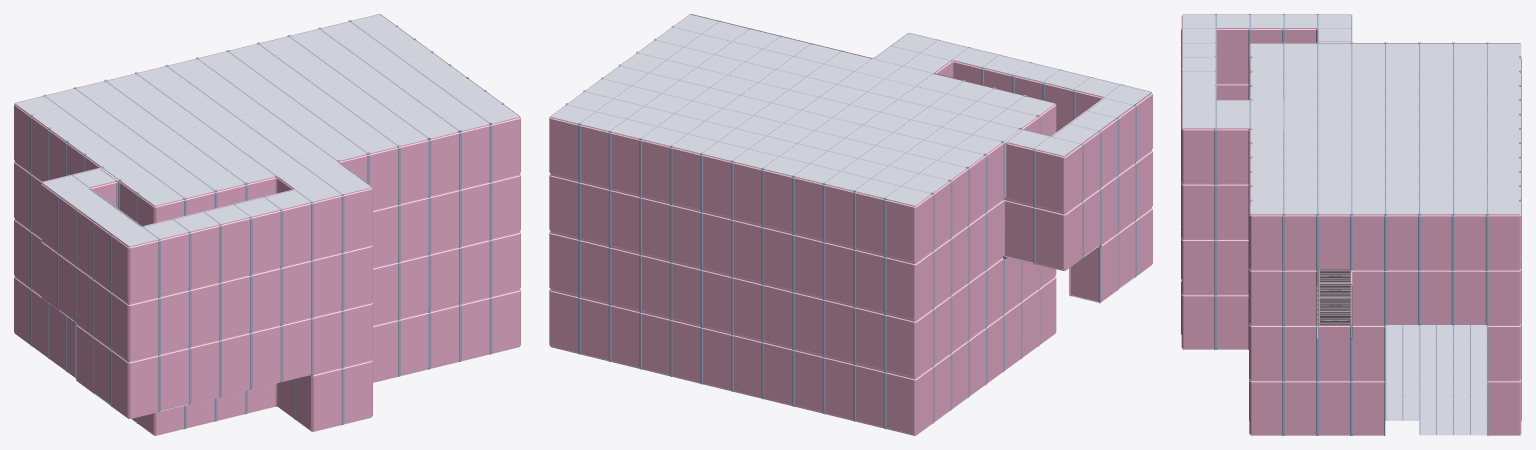
The model's file is Room2.fbx.
3 views of the same model, side by side, from view 1: azimuth 30°, elevation 25°; view 2: azimuth 150°, elevation 25°; view 3: azimuth 270°, elevation 25° (orthographic). The views are drawn at different scales.
Visible parts, largest first — view 1: polySurface878; view 2: polySurface878; view 3: polySurface878.
Boxes of the visible parts, <box> form: polySurface878: <box>14,14,520,435</box>; polySurface878: <box>549,14,1152,435</box>; polySurface878: <box>1181,14,1521,435</box>.
Size of the model in its own units: 3007 by 1443 by 2011.
Materials: 11 (9 with a texture image).
